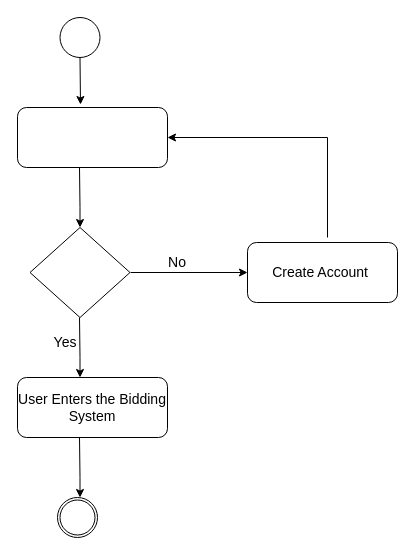
This 415x555 diagram has some shape labels left out. Here are the shapes that lost their labels. From the top down, the box of each, then its label:
(16, 106, 168, 168): User Enters Login Details
(29, 226, 130, 318): Registered
